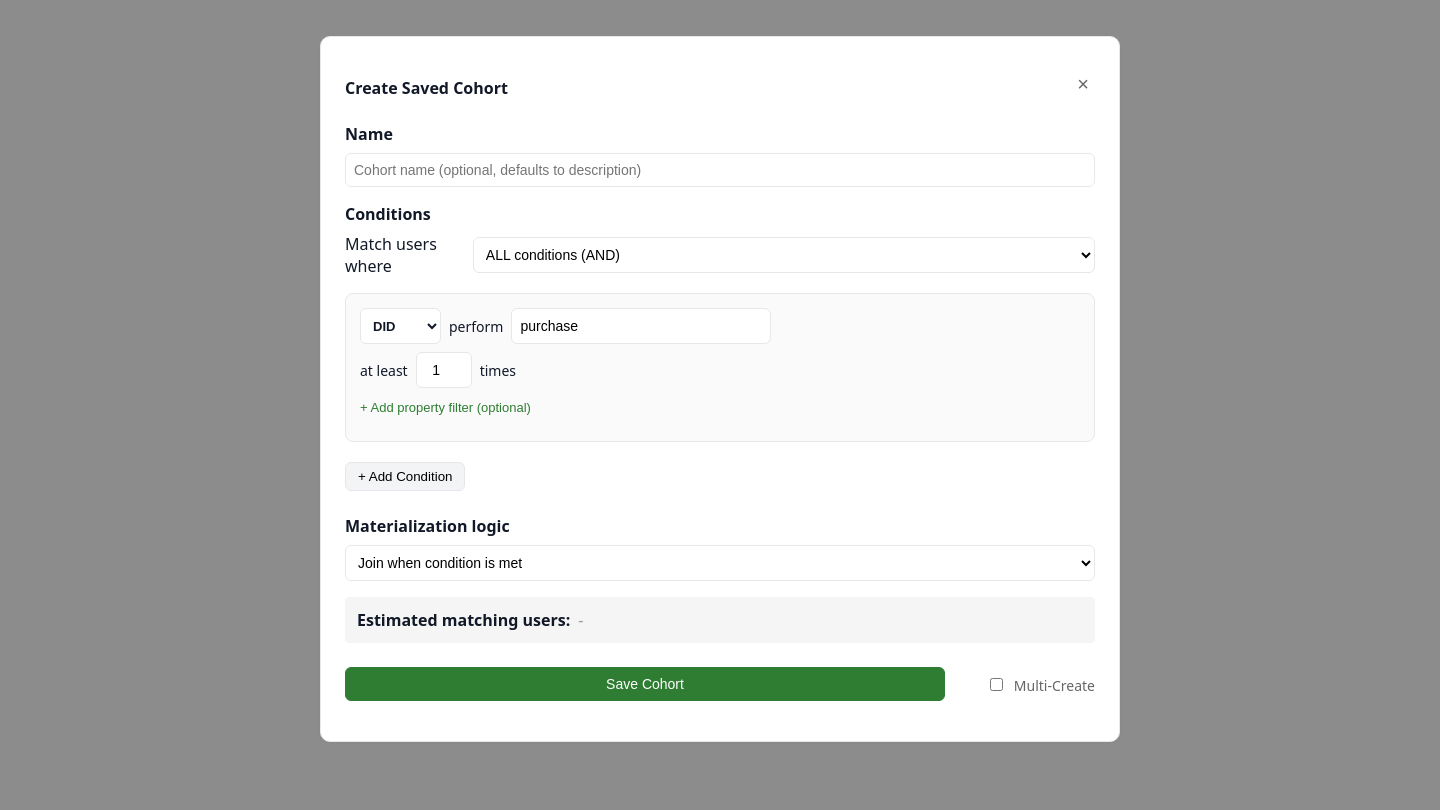
Test case: CohortForm batch creation › toggles batch mode and updates layout
Expected: the button "Save Cohort" is shown, [345,667,945,701]
Expected: the text "Reset" is not shown
Toggle ON
Click the checkbox labelled "Multi-Create": click(996, 684) [990,678,1003,690]
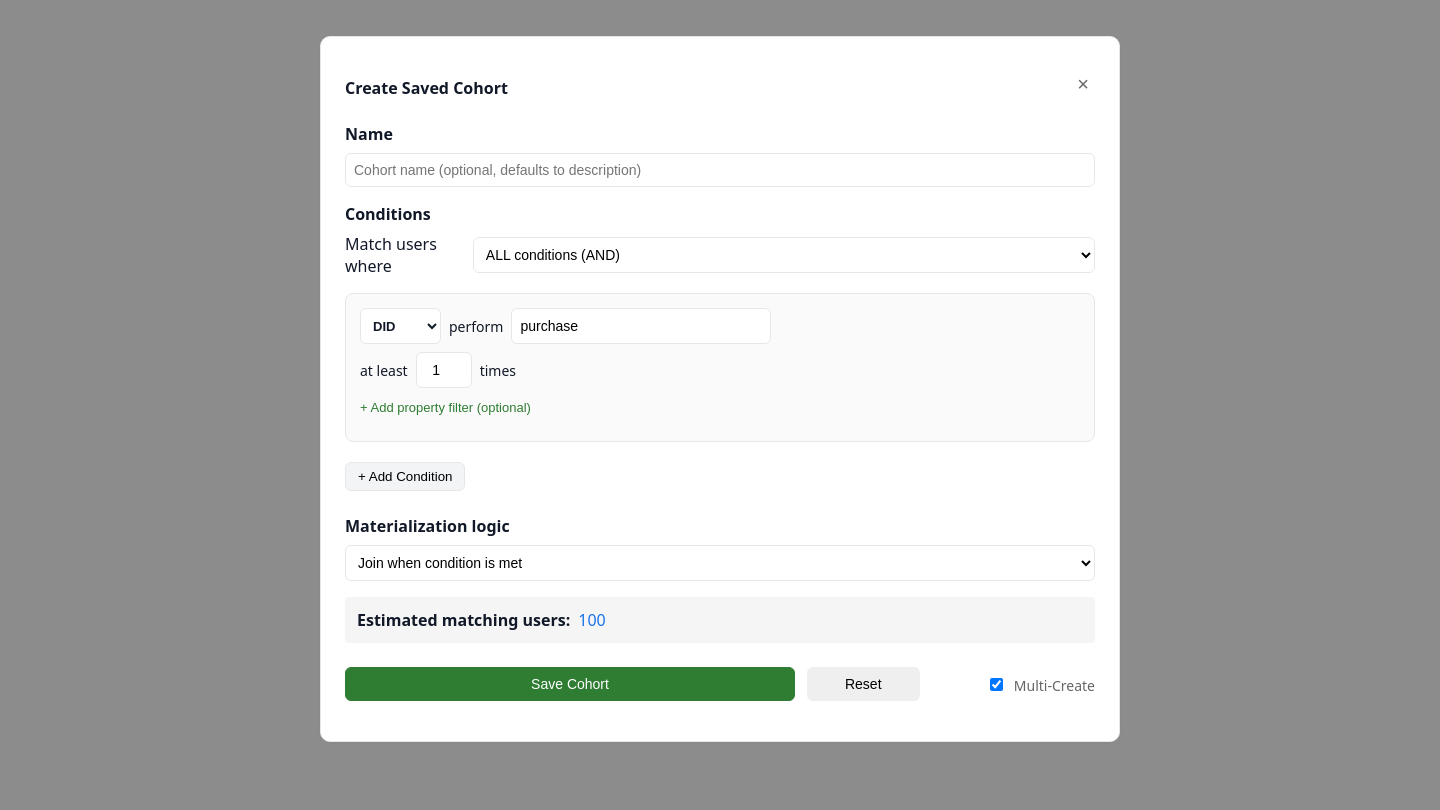
Now the button "Reset" is shown, box [807,667,920,701]
